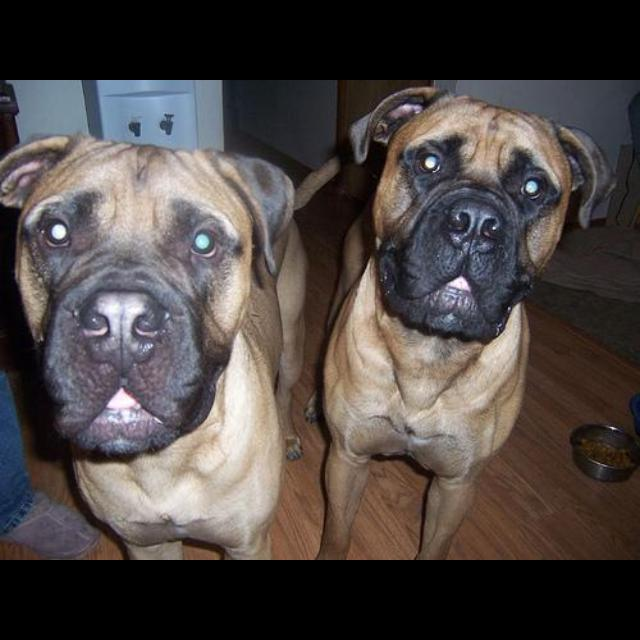bullmastiff: (298, 87, 616, 560), (2, 131, 341, 559)
